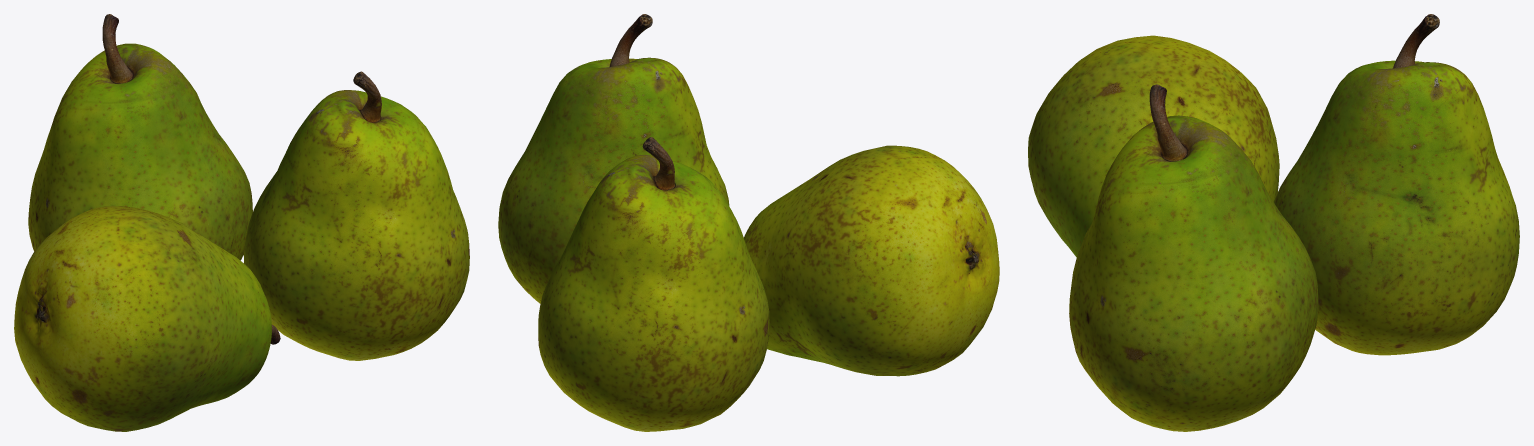
File: Pears.glb
The picture shows the model from 3 angles, left to right: view 1: azimuth 30°, elevation 25°; view 2: azimuth 150°, elevation 25°; view 3: azimuth 270°, elevation 25°; orthographic projection. The views are drawn at different scales.
Visible parts, largest first — view 1: Object_2.004; view 2: Object_2.004; view 3: Object_2.004.
Boxes of the visible parts, x1,y1,x2,y2 form: Object_2.004: [14, 14, 469, 431]; Object_2.004: [498, 14, 999, 431]; Object_2.004: [1028, 14, 1519, 431].
Bounding box in the file's own units: 0.1606 × 0.1009 × 0.1388.
Materials: 1 (1 with a texture image).
